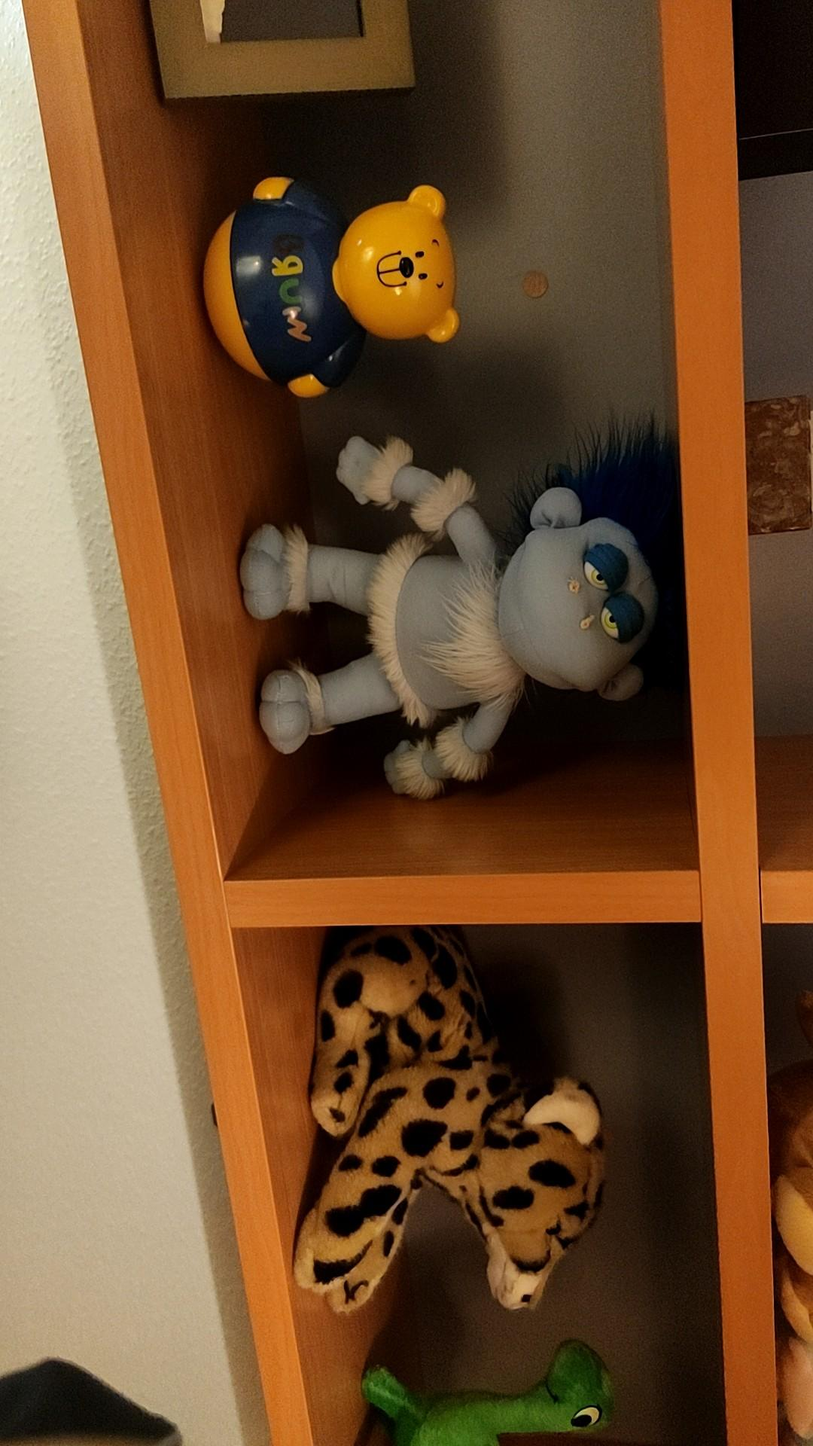toy: (240, 421, 682, 799), (294, 923, 604, 1313), (204, 176, 458, 396), (363, 1343, 608, 1445)
